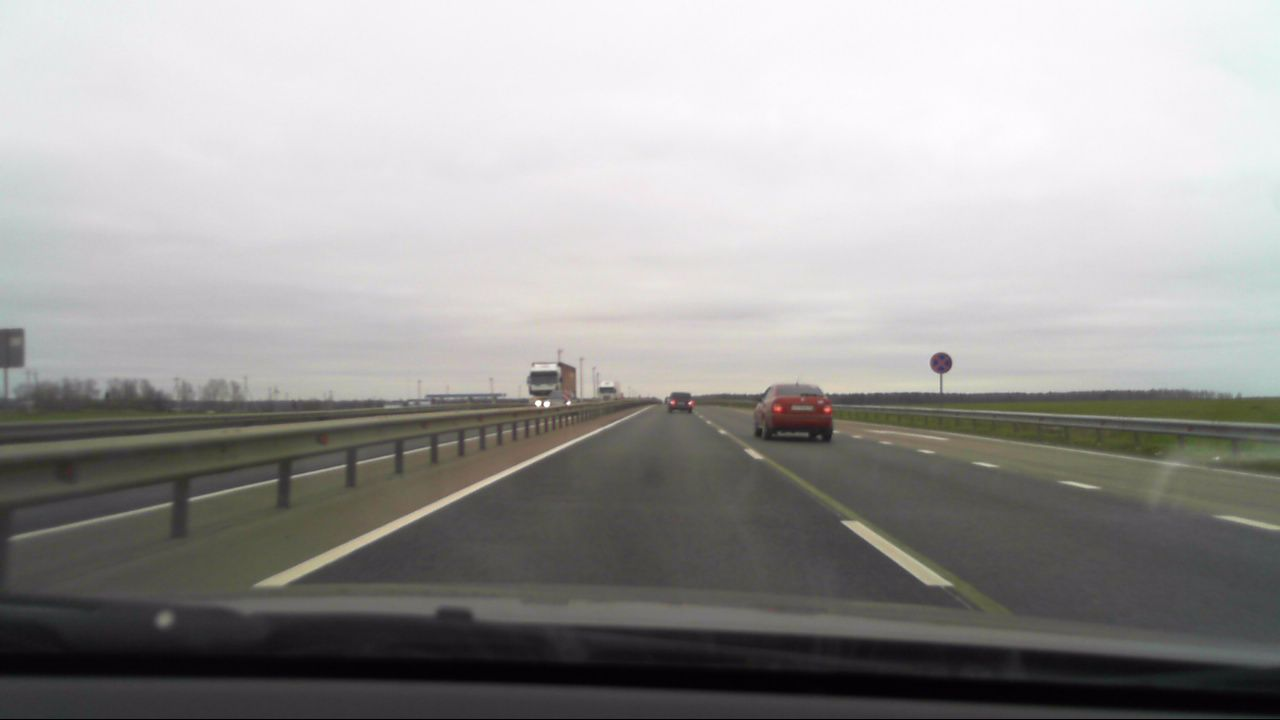No Parking: (930, 350, 955, 374)
